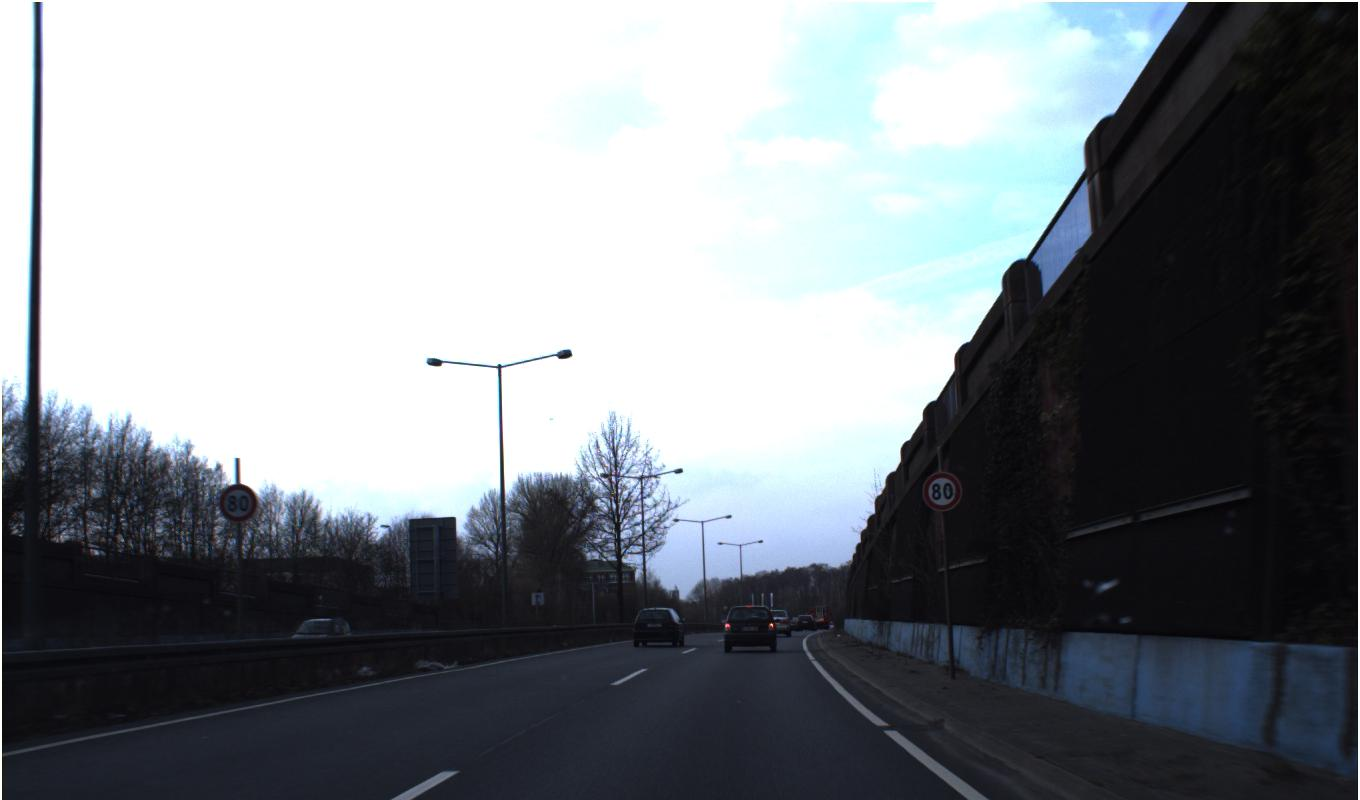prohibitory: (921, 470, 963, 512), (218, 483, 258, 523)
